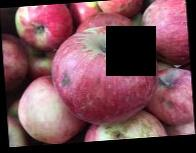rotten apple: (46, 26, 155, 120), (146, 66, 192, 123), (82, 109, 166, 139)
